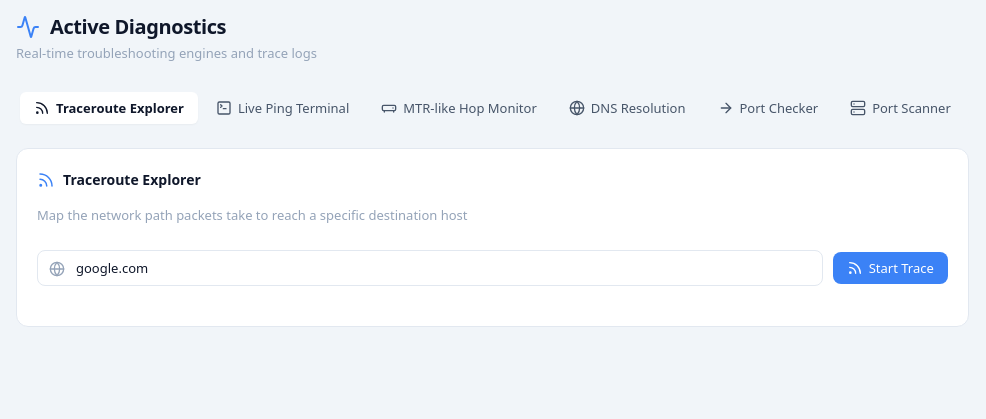
Test: Diagnostics run ownership › clears a single-port check on epoch change and ignores its late result
Click the button "Port Checker". click: click(768, 108)
box: [704,92,832,124]
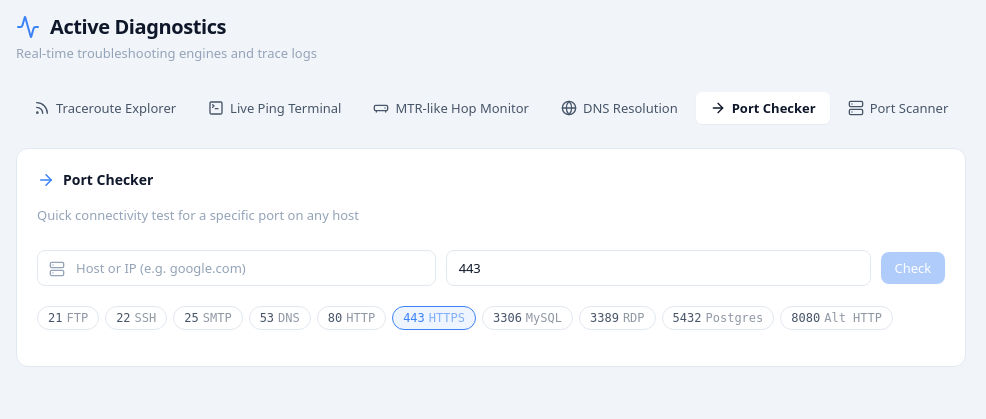
Type "example.com" into the field with placeholder "Host or IP (e.g. google.com)". click: (236, 267)
box: [37,249,436,285]
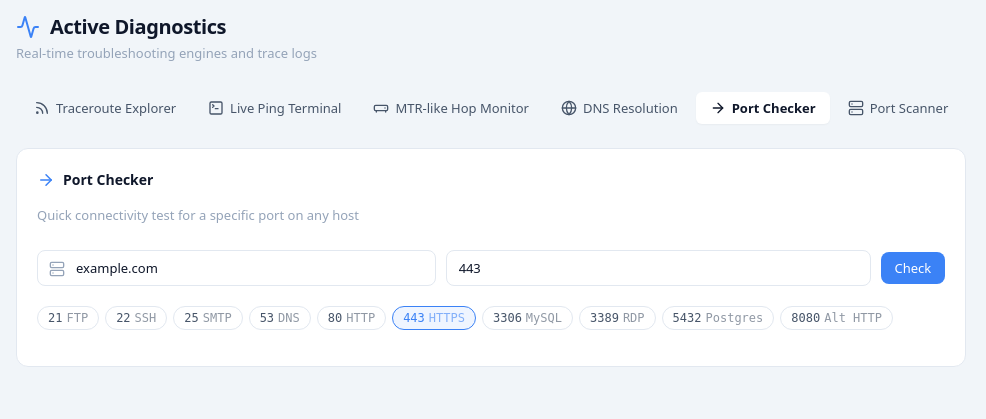
Click the button "Check". click: click(913, 267)
box: [880,251,945,283]
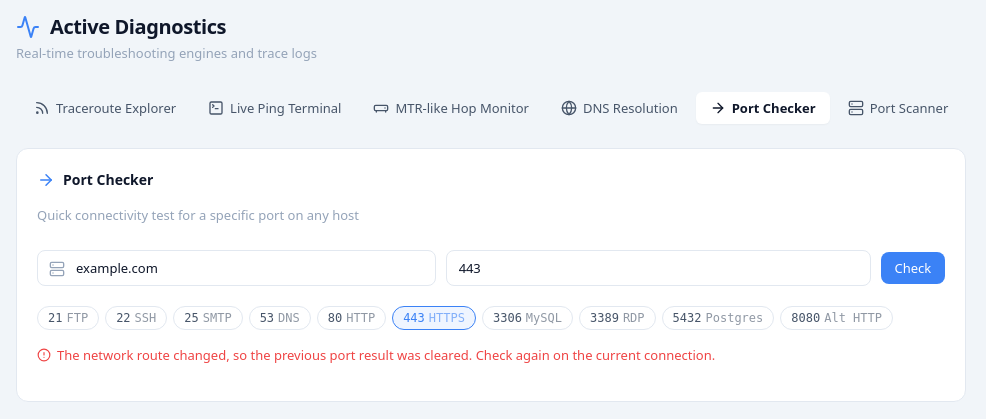
Expected: the button "Check" is enabled, [880,251,945,283]
Expected: the text "previous port result was cleared" is shown, [57,345,715,363]
